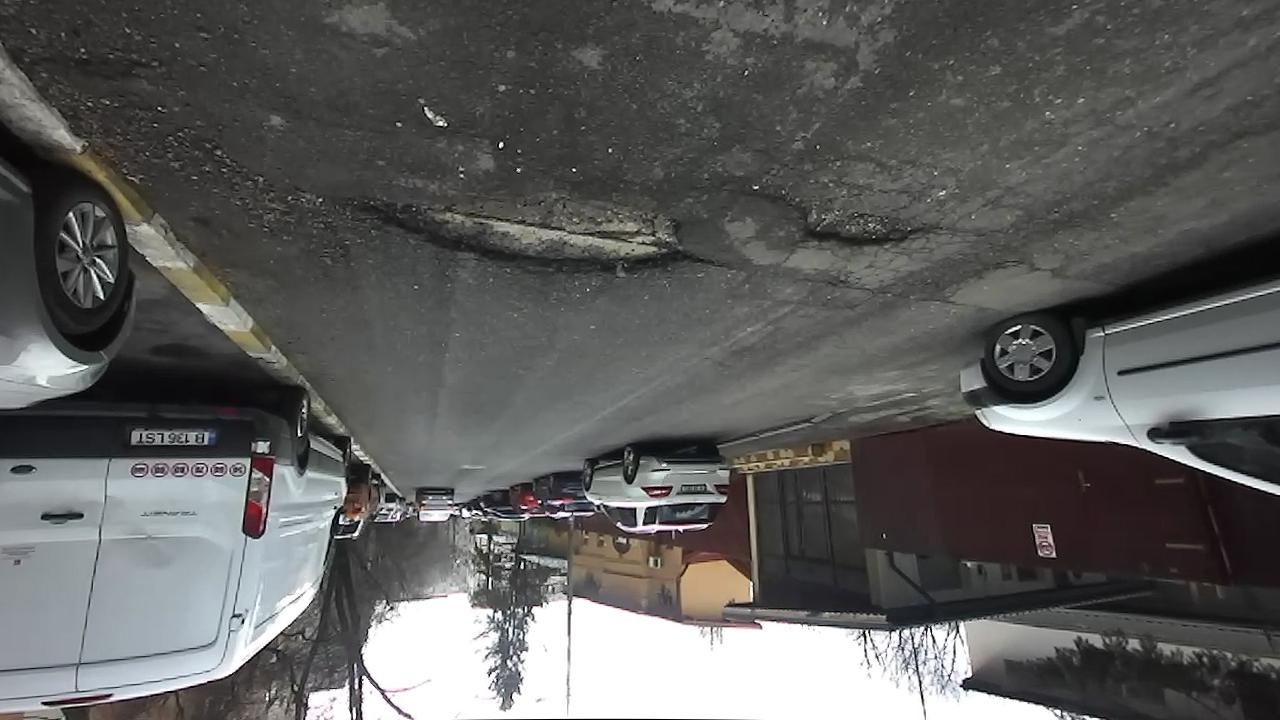pothole: (328, 186, 716, 281), (770, 188, 947, 257)
